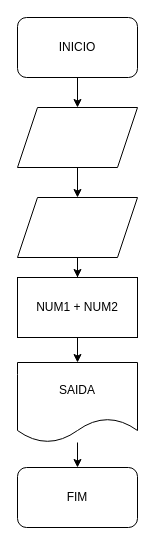
Image size: 155x545. Some labels were removed from this diagram. The shapes that lost their labels are listed below. From the top down, each one's box as (x1, y1, x2, y2) in pixels, then its label:
(16, 106, 138, 168): NUM1
(16, 196, 138, 258): NUM2
